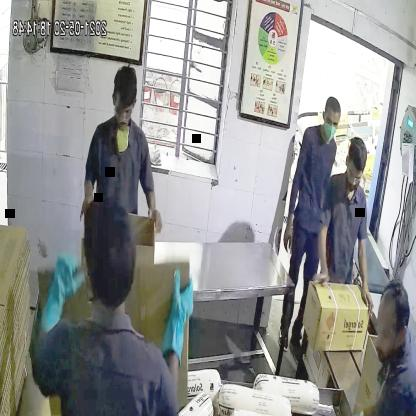goggles: (111, 96, 137, 126), (346, 157, 365, 188)
no_goggles: (320, 110, 343, 132)
